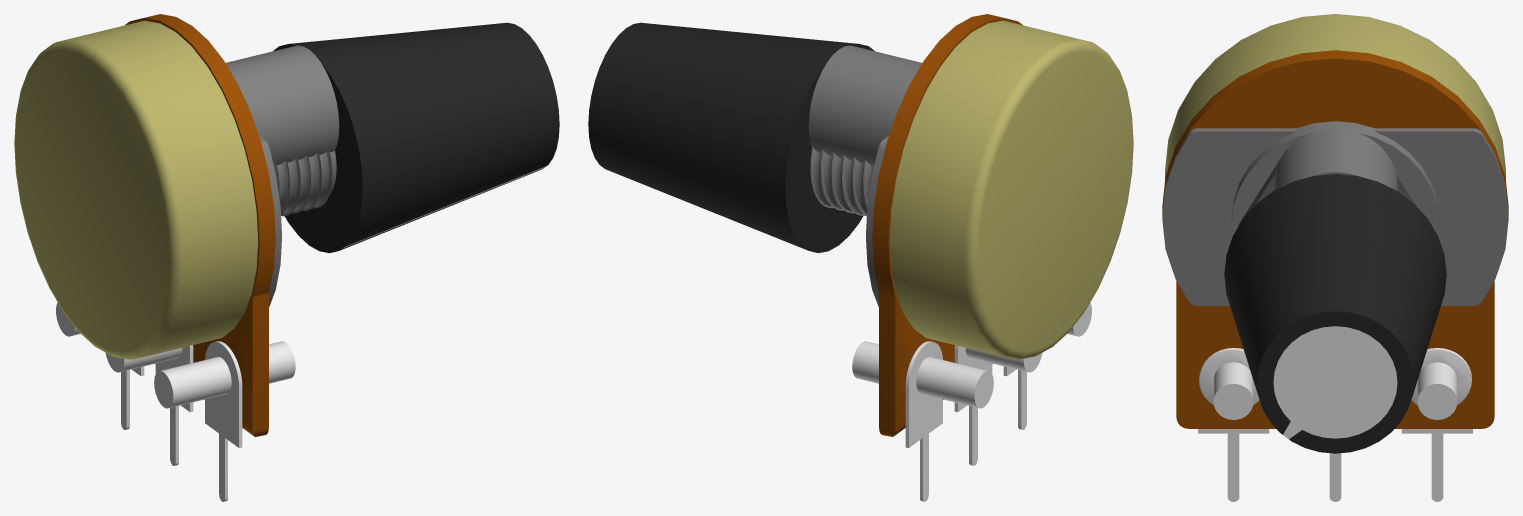
File: potentiometer.glb
3 views of the same model, side by side, from view 1: azimuth 30°, elevation 25°; view 2: azimuth 150°, elevation 25°; view 3: azimuth 270°, elevation 25° (orthographic). The views are drawn at different scales.
Visible parts, largest first — view 1: Metal Back, Knob, Potentiometer, Shaft Thread (Non-Cut), Pin Inverse PCB, Shaft Thread, Pin, Metal Front, Pin.001, Pin Inverse PCB.001, Pin.002; view 2: Metal Back, Knob, Potentiometer, Shaft Thread (Non-Cut), Pin Inverse PCB.002, Shaft Thread, Pin.002, Metal Front, Pin.001, Pin Inverse PCB.001, Pin; view 3: Knob, Potentiometer, Metal Front, Metal Back, Shaft Thread (Non-Cut), Pin, Pin.002, Pin Inverse PCB.002, Pin Inverse PCB, Pin Inverse, Nut, Pin.001.
Part boxes in pixels (x1,y1,x2,y2): Metal Back: (14, 20, 258, 359); Knob: (273, 22, 559, 253); Potentiometer: (125, 14, 275, 436); Shaft Thread (Non-Cut): (226, 45, 339, 164); Pin Inverse PCB: (154, 341, 295, 408); Shaft Thread: (273, 148, 336, 216); Pin: (205, 341, 242, 501); Metal Front: (259, 136, 281, 306); Pin.001: (155, 345, 193, 465); Pin Inverse PCB.001: (105, 348, 182, 372); Pin.002: (121, 366, 144, 429); Metal Back: (889, 20, 1133, 359); Knob: (588, 22, 874, 253); Potentiometer: (872, 14, 1022, 436); Shaft Thread (Non-Cut): (808, 45, 921, 165); Pin Inverse PCB.002: (852, 341, 993, 408); Shaft Thread: (810, 147, 873, 216); Pin.002: (905, 341, 942, 501); Metal Front: (866, 136, 888, 306); Pin.001: (954, 345, 992, 465); Pin Inverse PCB.001: (965, 348, 1042, 372); Pin: (1003, 366, 1026, 429); Knob: (1224, 174, 1446, 453); Potentiometer: (1162, 50, 1508, 428); Metal Front: (1162, 121, 1508, 305); Metal Back: (1165, 14, 1505, 179); Shaft Thread (Non-Cut): (1273, 129, 1397, 190); Pin: (1198, 348, 1269, 501); Pin.002: (1401, 348, 1472, 501); Pin Inverse PCB.002: (1417, 362, 1457, 419); Pin Inverse PCB: (1213, 362, 1253, 419); Pin Inverse: (1215, 385, 1252, 418); Nut: (1238, 148, 1432, 226); Pin.001: (1329, 453, 1341, 501).
Bounding box in the file's own units: 0.0126 × 0.0122 × 0.0085.
